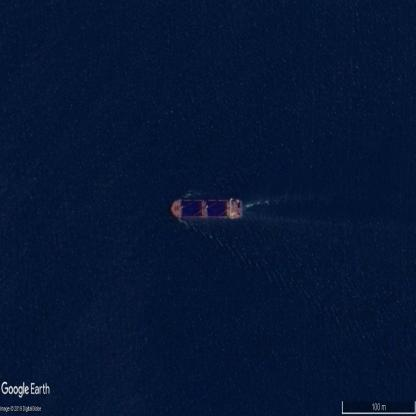ship: (171, 198, 243, 221)
